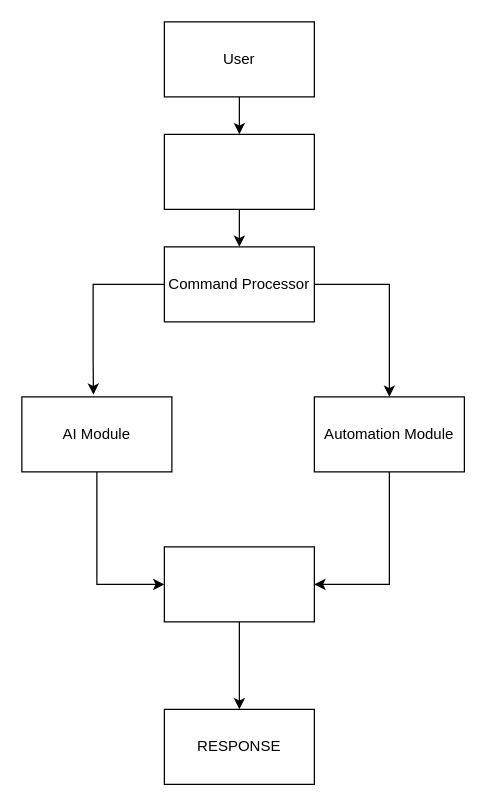
This 486x806 diagram has some shape labels left out. Here are the shapes that lost their labels. From the top down, the centre of each, then its label:
At point 238,171: "Voice Recognition".
At point 238,584: "Speech Module".
